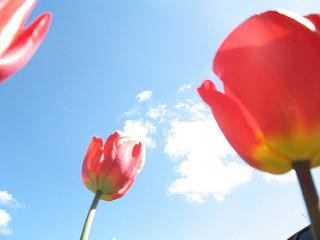tulip: (196, 11, 320, 176), (81, 131, 147, 201)
